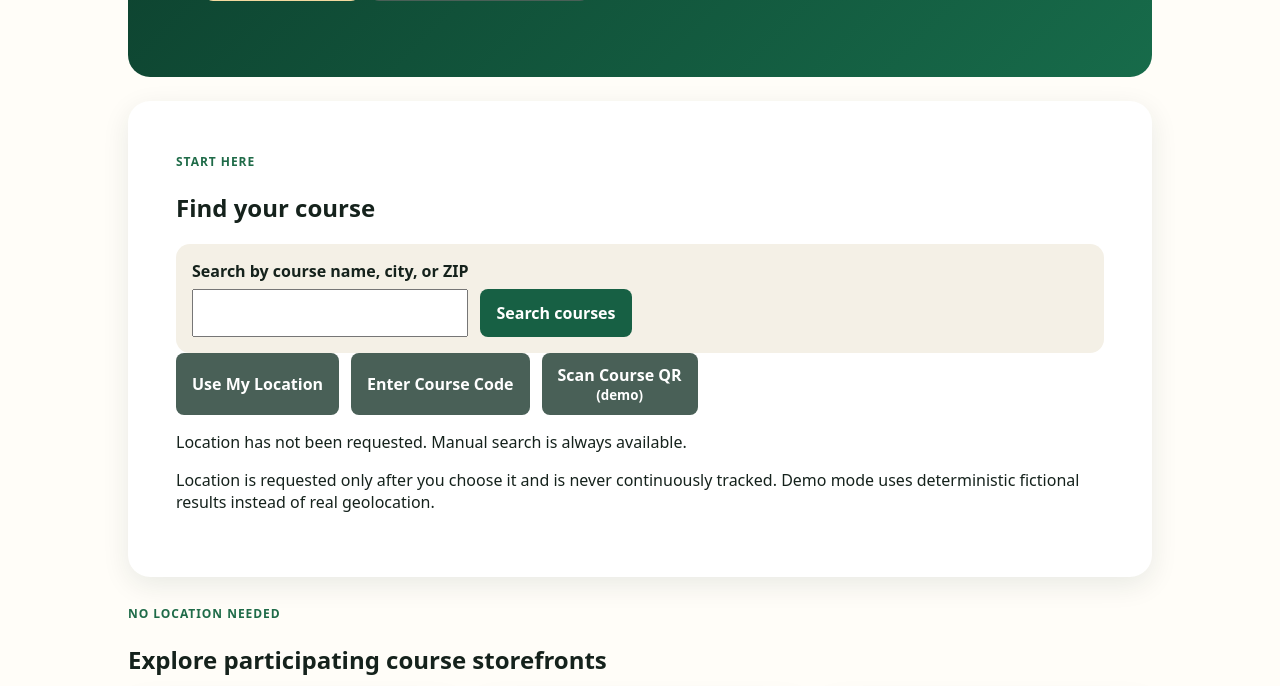
Test: location-first discovery › demo never requests real location and never watches
The image size is (1280, 686).
(page scrolled)
What coordinates should you click on to do the following:
click the button "Use My Location"
I would click on:
 (258, 384)
Its box is [176,353,339,415].
(page scrolled)
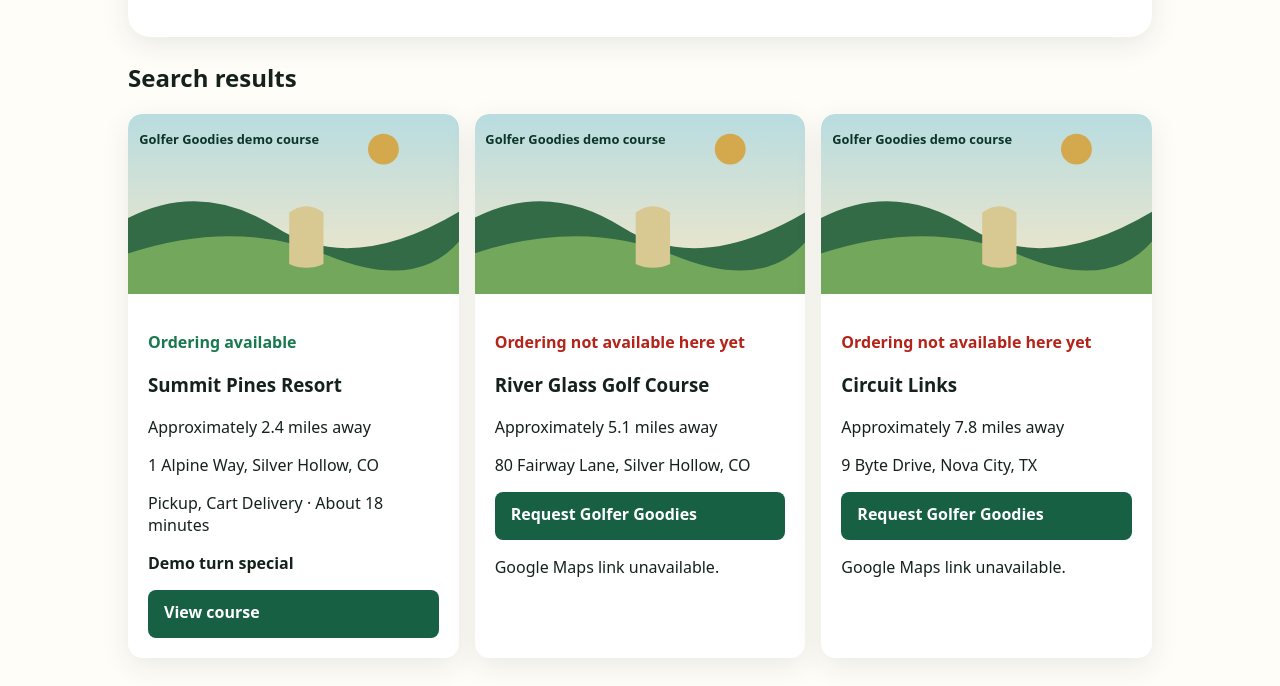
Expected: the heading "Summit Pines Resort" is shown, [148,372,342,397]
